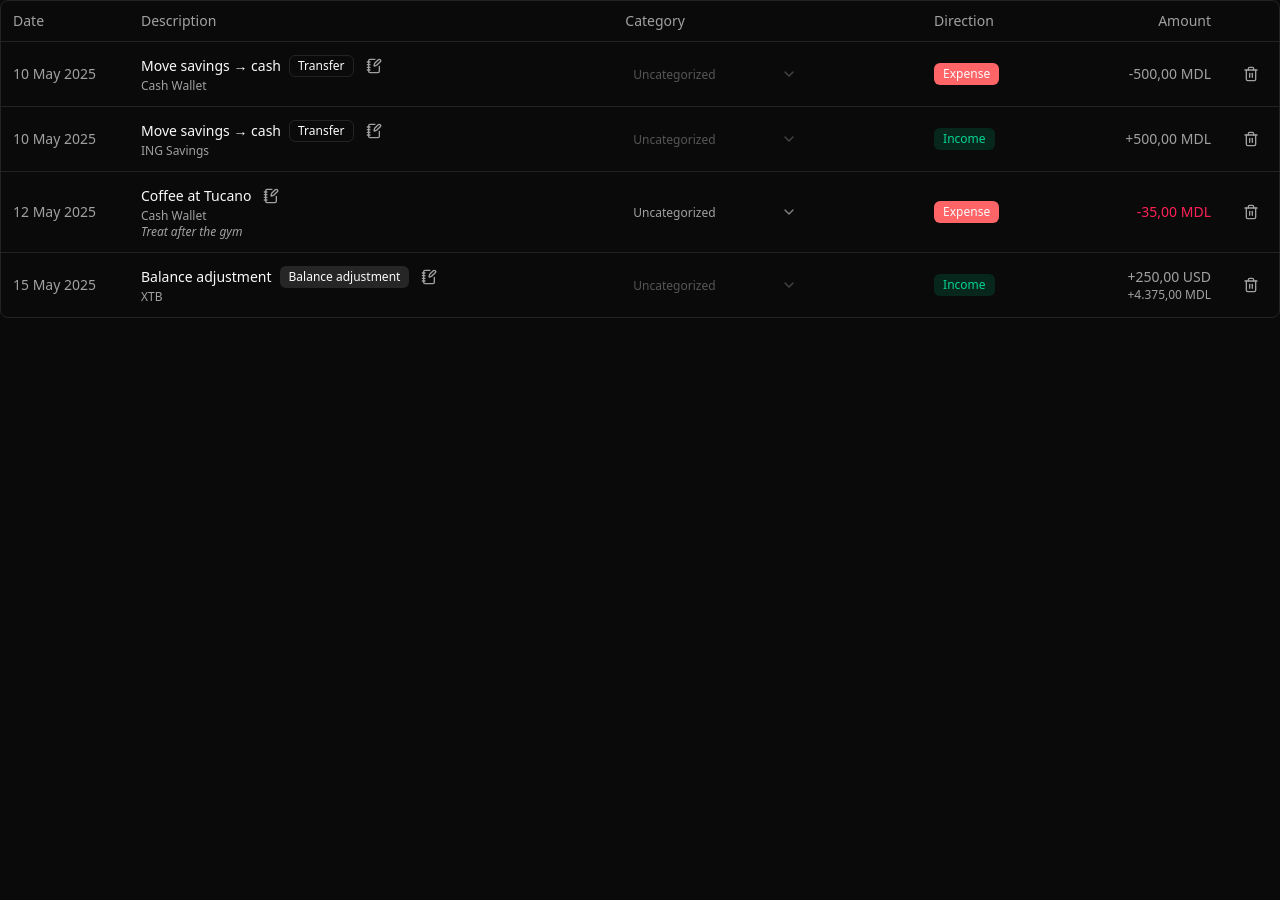
Test: TransactionsTable delete (allowDelete) › deletes a row through the confirm dialog and toasts success
Click the button with test id "delete-transaction": (1251,74) [1235,58,1267,90]
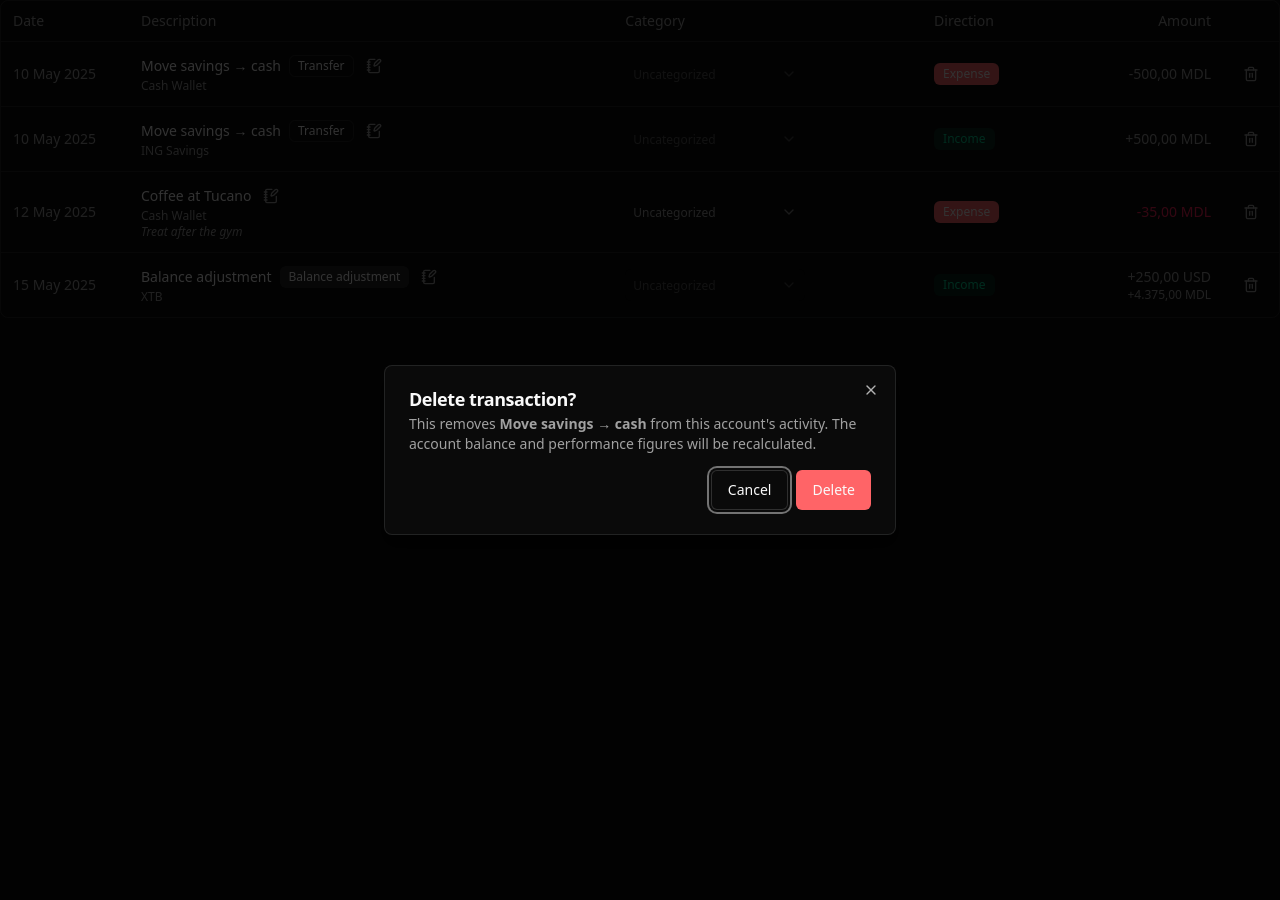
Click the button with test id "delete-transaction-confirm": (834,490) [796,470,871,510]
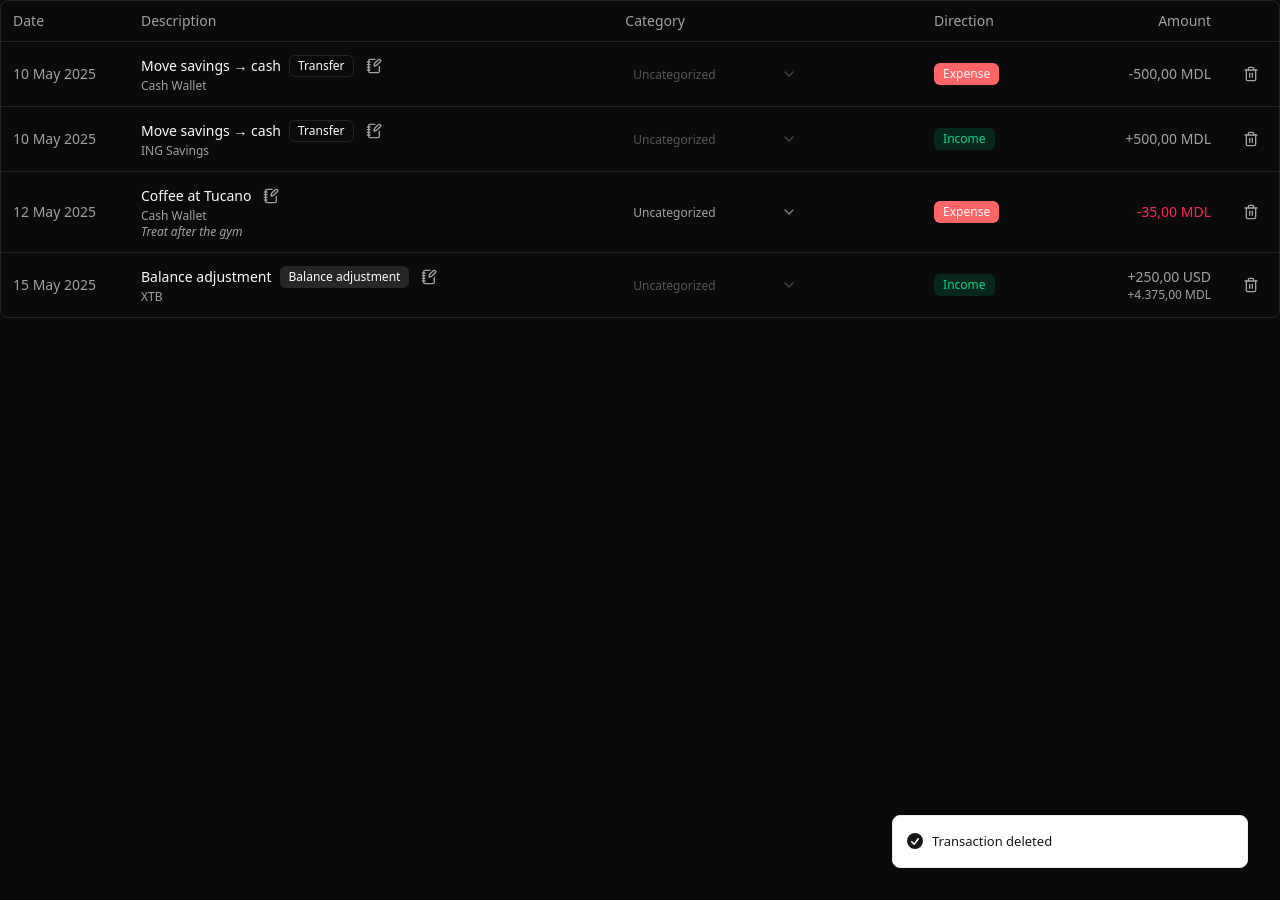
Now the text "Transaction deleted" is shown, box [932,832,1052,851]
Now the button with test id "delete-transaction-confirm" is gone
